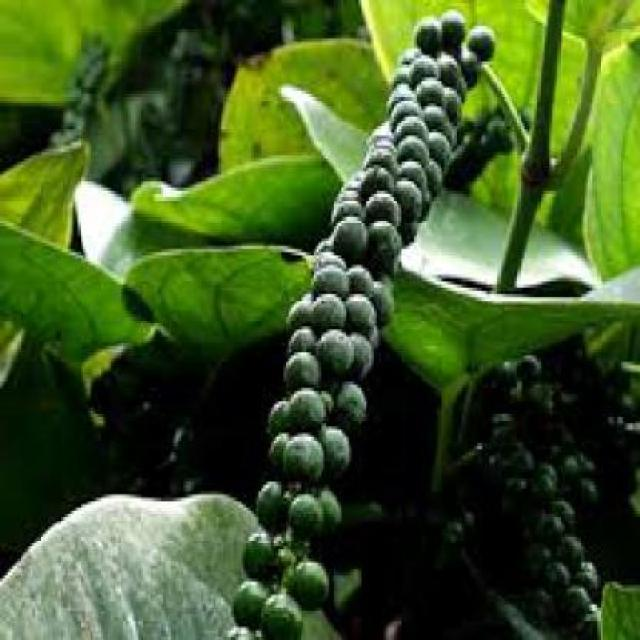UNRIPE: (228, 6, 492, 634), (480, 355, 595, 617)
